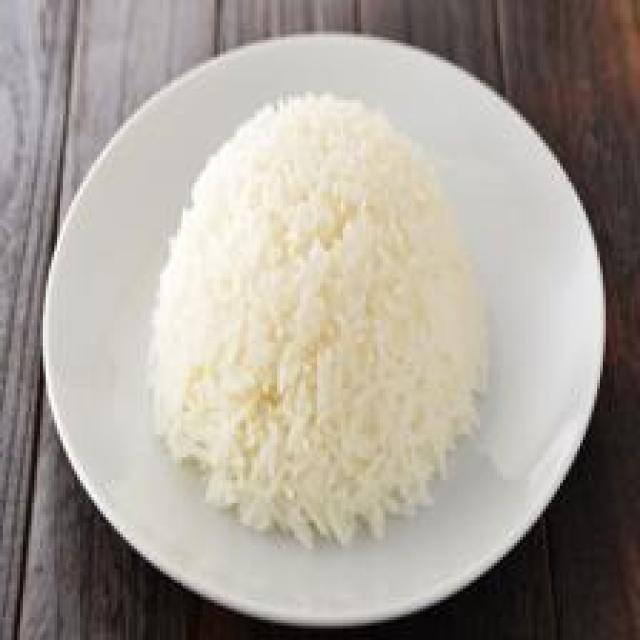Wet Waste: (142, 90, 491, 557)
